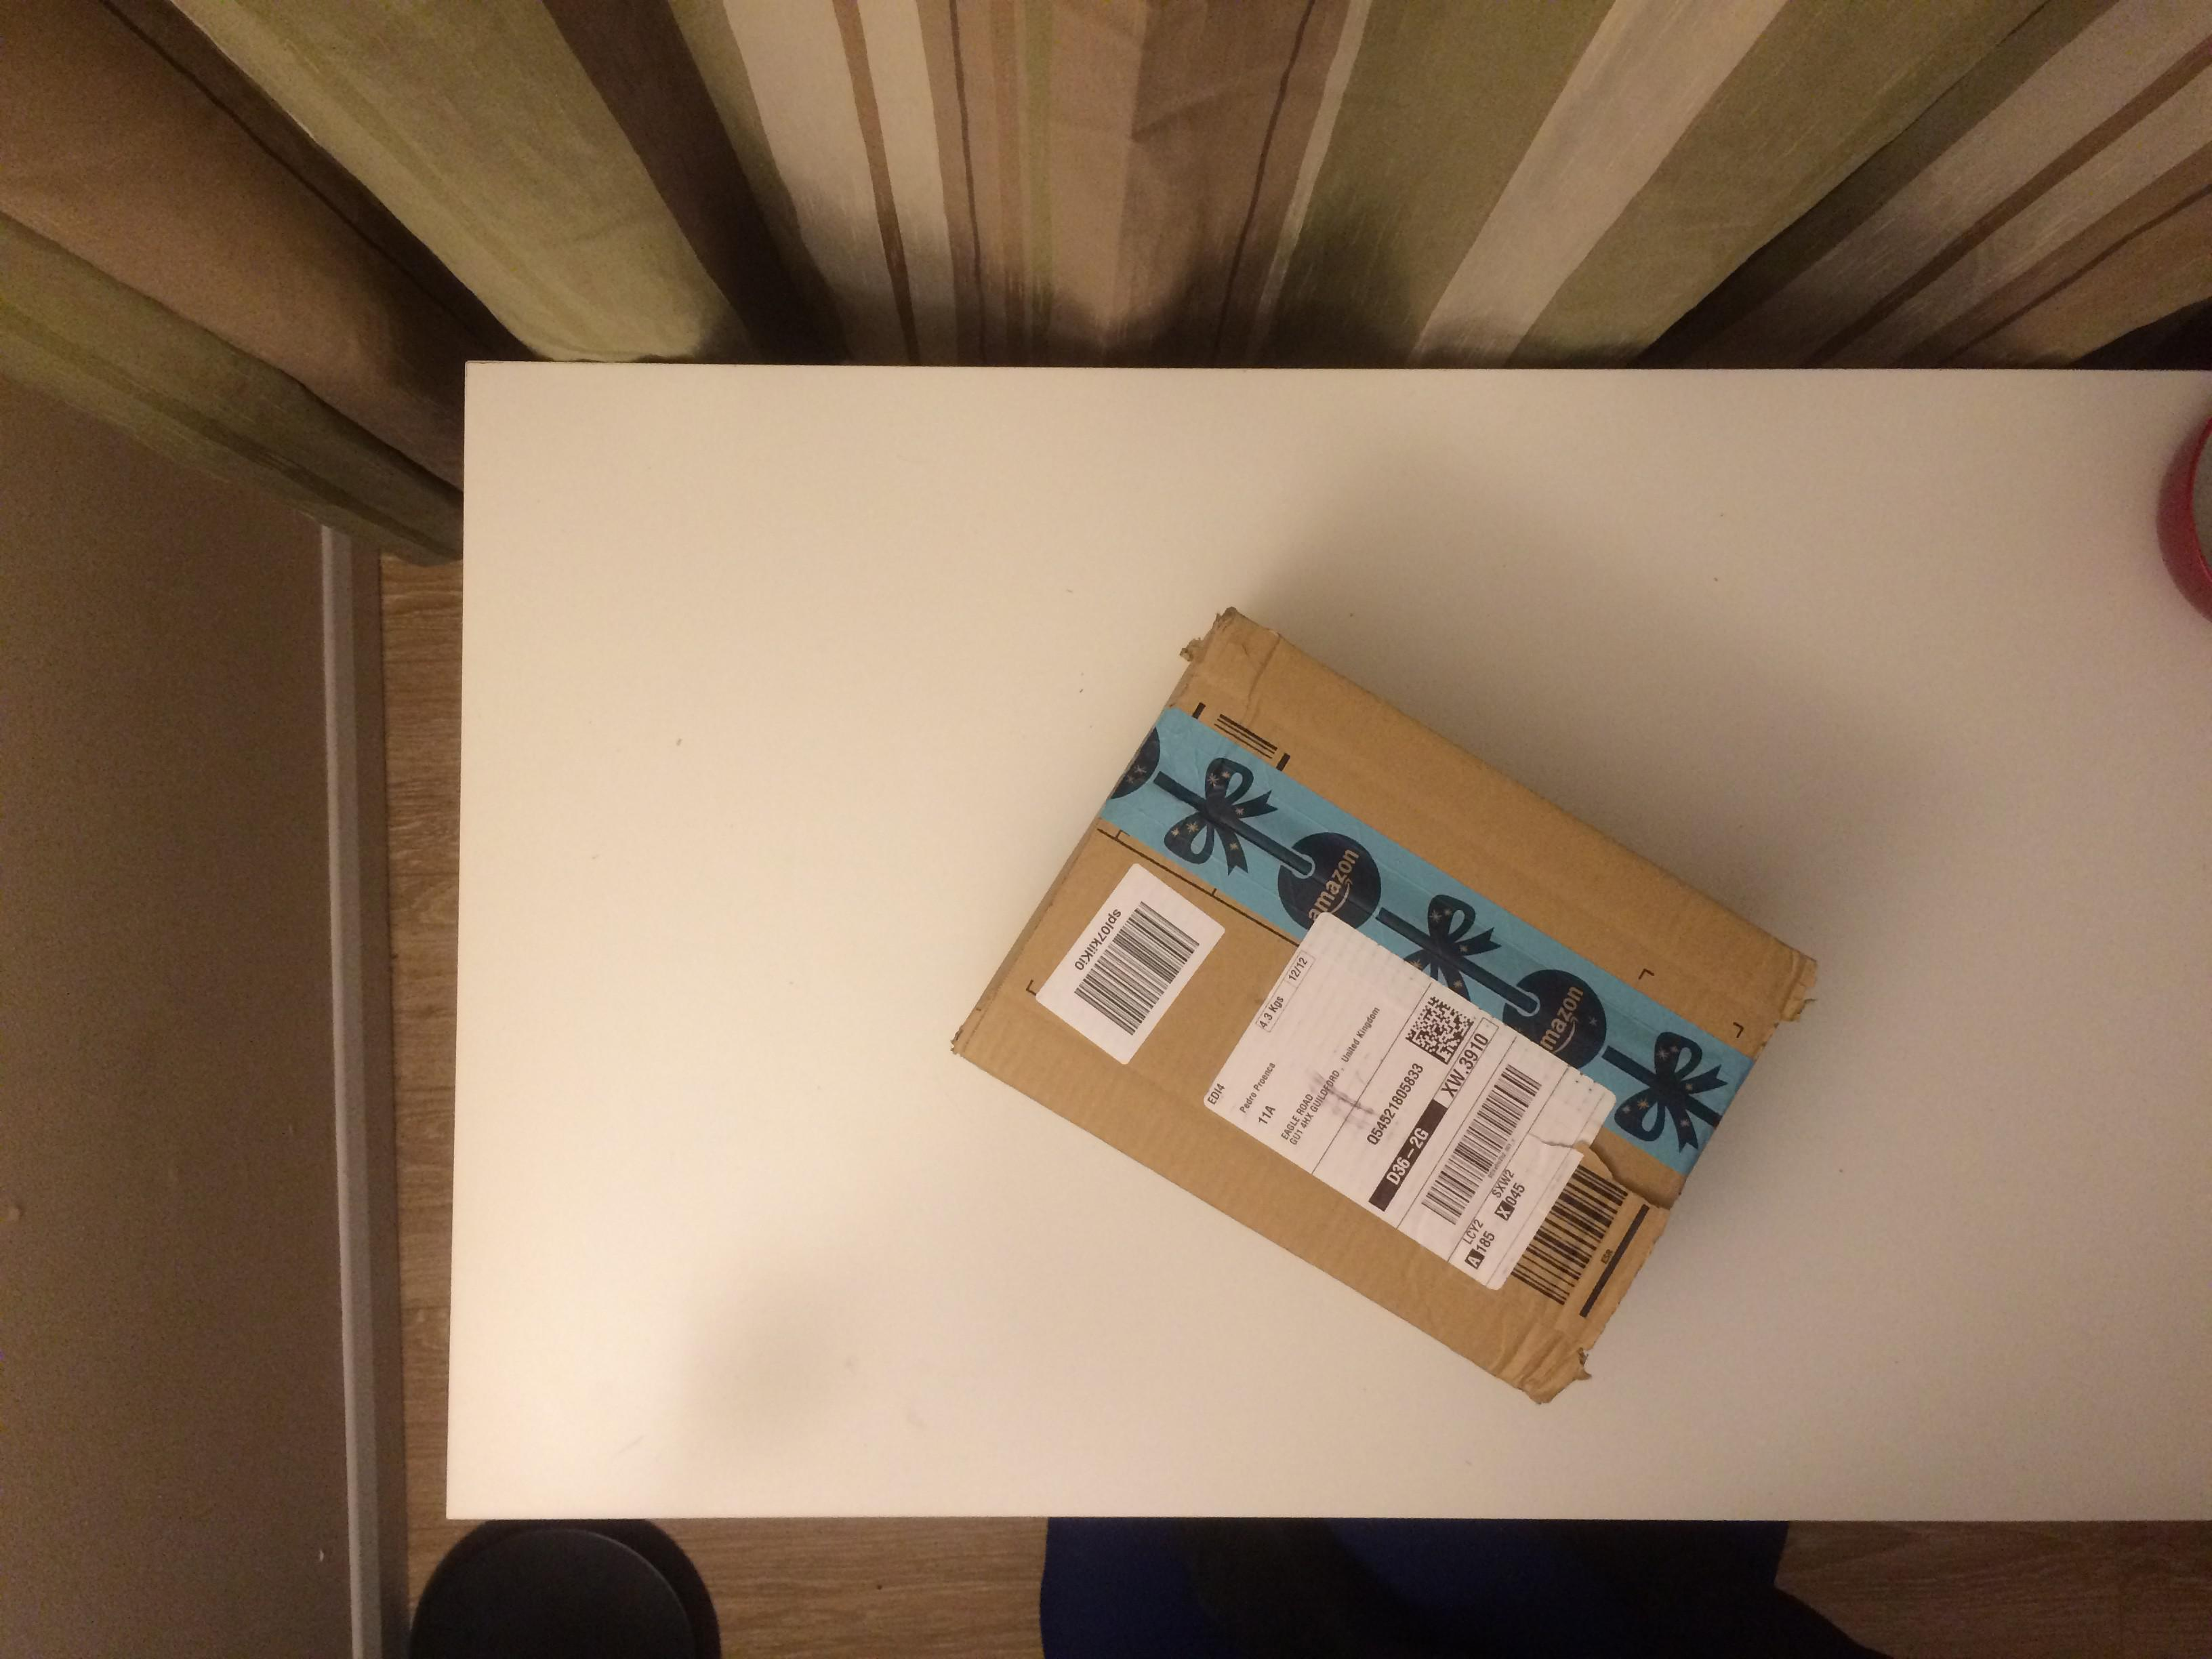Trash: (941, 606, 1820, 1408)
